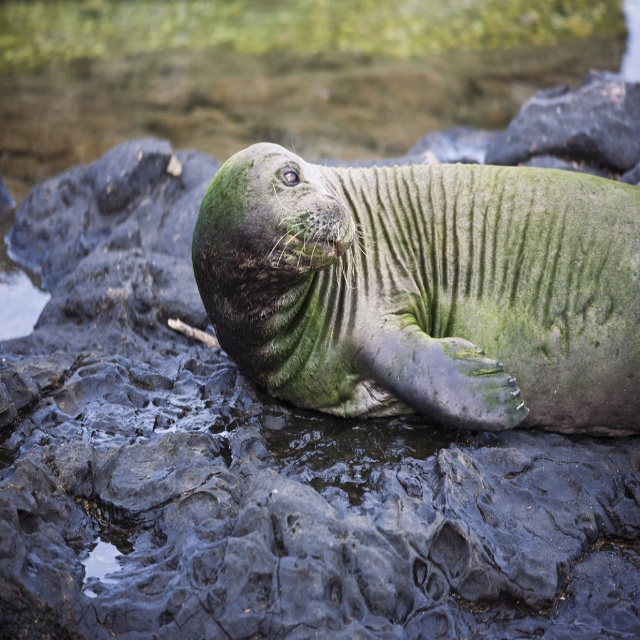Harbor seal: (184, 118, 628, 468)
